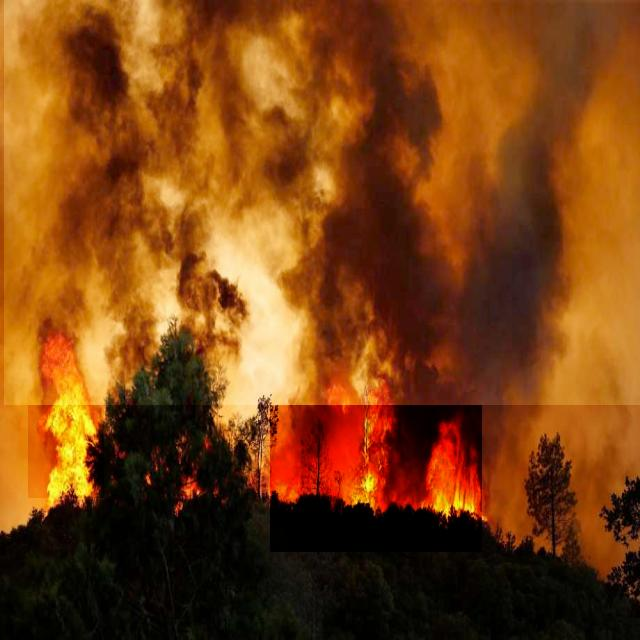Fire: (270, 370, 482, 552), (28, 331, 104, 498)
Smoke: (4, 0, 640, 405)
